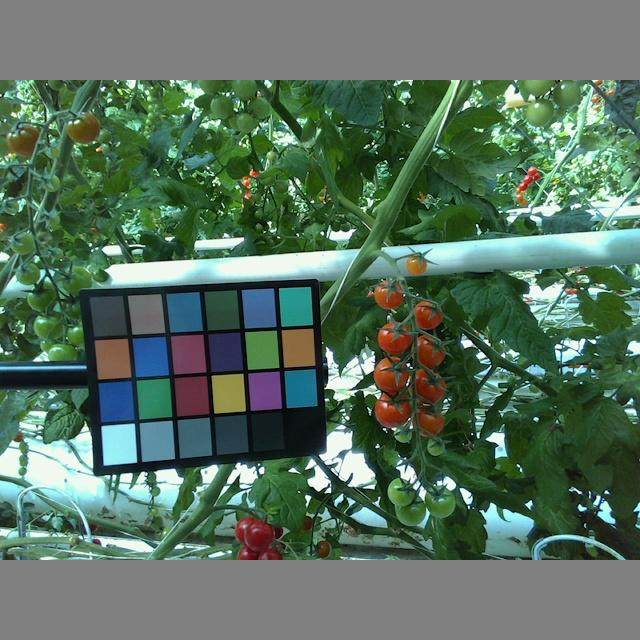green: (25, 281, 58, 315), (31, 309, 67, 340), (395, 495, 427, 527), (61, 264, 92, 296), (425, 486, 456, 517), (387, 476, 415, 508), (553, 81, 583, 110), (525, 99, 553, 127), (209, 93, 233, 120), (229, 110, 257, 133), (13, 261, 40, 284), (12, 231, 35, 257), (246, 97, 270, 121), (232, 81, 257, 103), (426, 436, 446, 457)
pink: (407, 368, 447, 406), (7, 121, 42, 160), (372, 357, 409, 393), (408, 403, 446, 437), (375, 393, 410, 428), (410, 334, 445, 369), (377, 319, 411, 354), (66, 112, 101, 144), (371, 278, 403, 310), (410, 298, 442, 330), (404, 253, 429, 273)
red: (243, 520, 275, 550)
